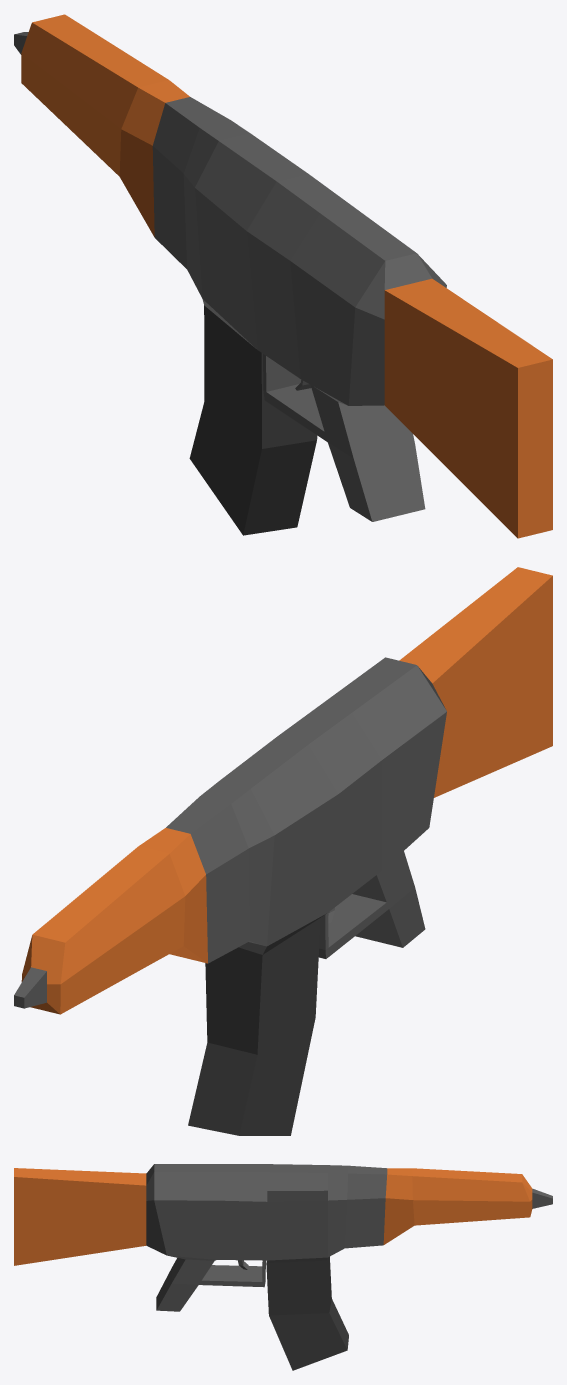
The picture shows the model from 3 angles, top to bottom: view 1: azimuth 30°, elevation 25°; view 2: azimuth 150°, elevation 25°; view 3: azimuth 270°, elevation 25°; orthographic projection. The views are drawn at different scales.
Visible parts, largest first — view 1: Cube; view 2: Cube; view 3: Cube.
Part boxes in pixels (<box>): Cube: <box>14,14,552,538</box>; Cube: <box>14,567,552,1135</box>; Cube: <box>14,1164,552,1370</box>.
Bounding box in the file's own units: 11.1 × 43.29 × 108.
